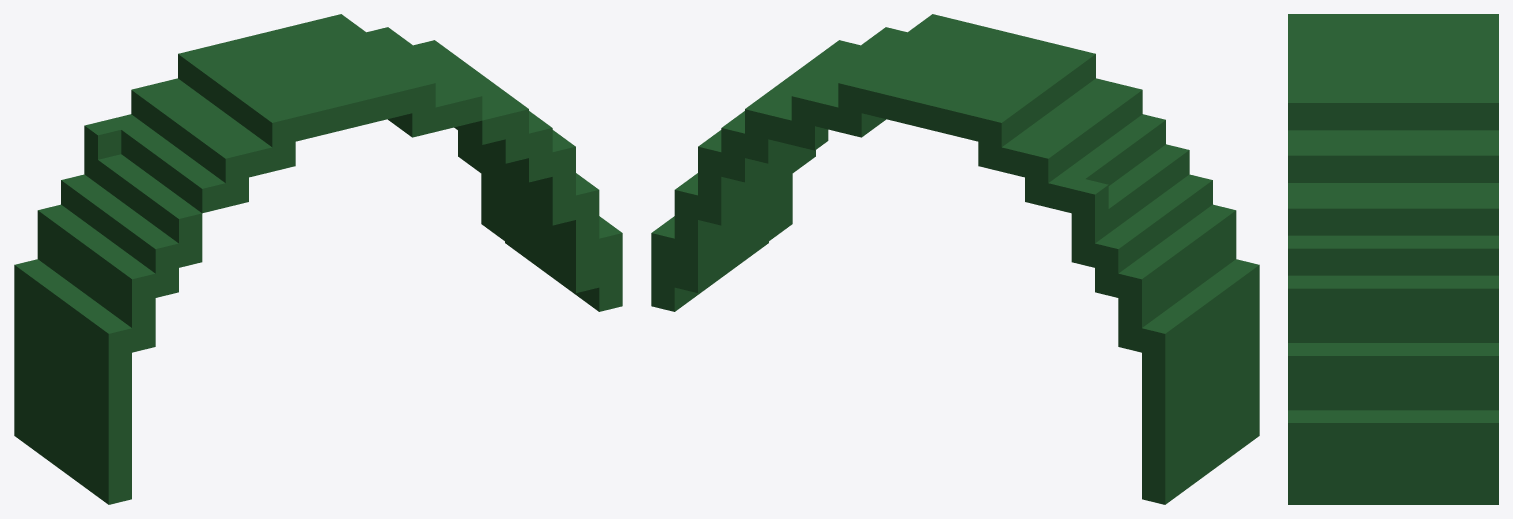
The model's file is classic_small_car_front_wing.glb.
3 renders of one model, left to right at view 1: azimuth 30°, elevation 25°; view 2: azimuth 150°, elevation 25°; view 3: azimuth 270°, elevation 25°, orthographic. The views are drawn at different scales.
Visible parts, largest first — view 1: body:compound; view 2: body:compound; view 3: body:compound.
Boxes of the visible parts, <box> form: body:compound: <box>14,14,622,504</box>; body:compound: <box>651,14,1259,504</box>; body:compound: <box>1288,14,1498,504</box>.
Bounding box in the file's own units: 0.6875 × 0.4375 × 0.2188.
